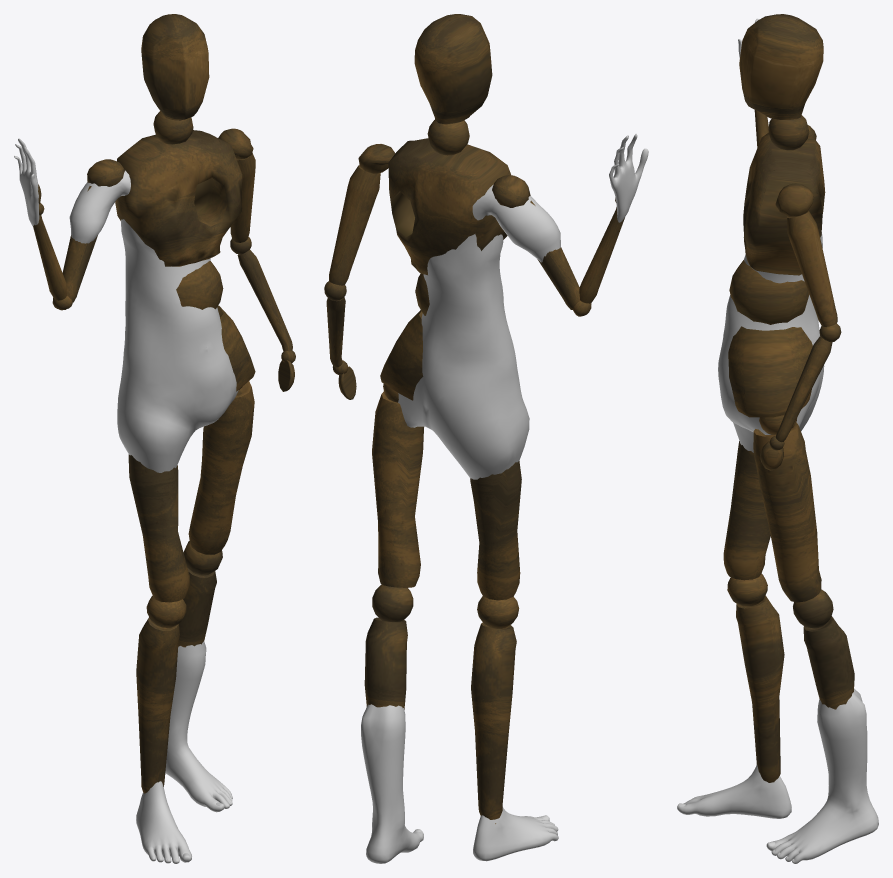
The model's file is enemigo1_pose6.fbx.
3 renders of one model, left to right at view 1: azimuth 30°, elevation 25°; view 2: azimuth 150°, elevation 25°; view 3: azimuth 270°, elevation 25°, orthographic. The views are drawn at different scales.
Parts seen in each view (by area): view 1: dummy_obj.003, Body.004; view 2: dummy_obj.003, Body.004; view 3: dummy_obj.003, Body.004.
Boxes of the visible parts, x1,y1,x2,y2 form: dummy_obj.003: [33, 14, 295, 793]; Body.004: [14, 138, 238, 863]; dummy_obj.003: [324, 14, 624, 823]; Body.004: [361, 133, 648, 863]; dummy_obj.003: [723, 14, 854, 782]; Body.004: [677, 18, 878, 863].
Bounding box in the file's own units: 66.25 × 179 × 40.23.
